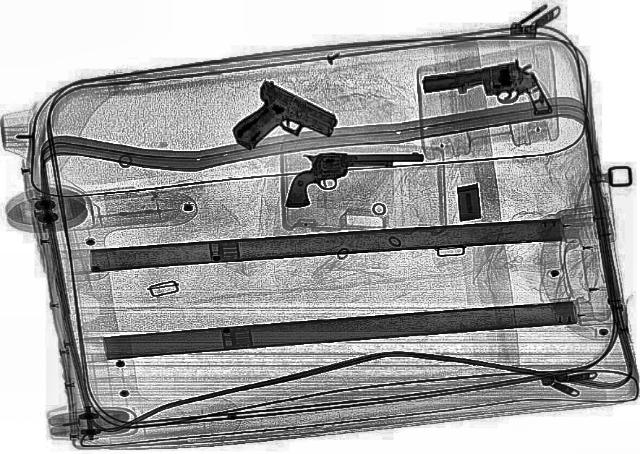Gun: (206, 78, 348, 170), (414, 58, 554, 130), (284, 152, 424, 207)
